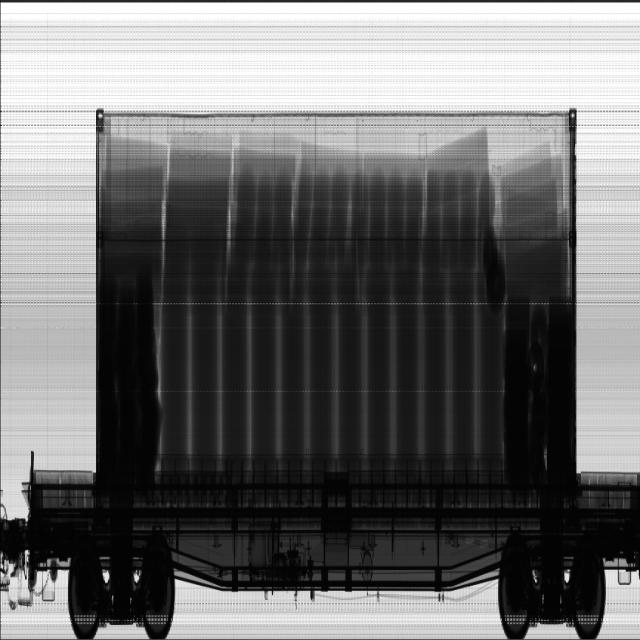clothes: (97, 277, 155, 475)
shoes: (99, 132, 568, 452)
